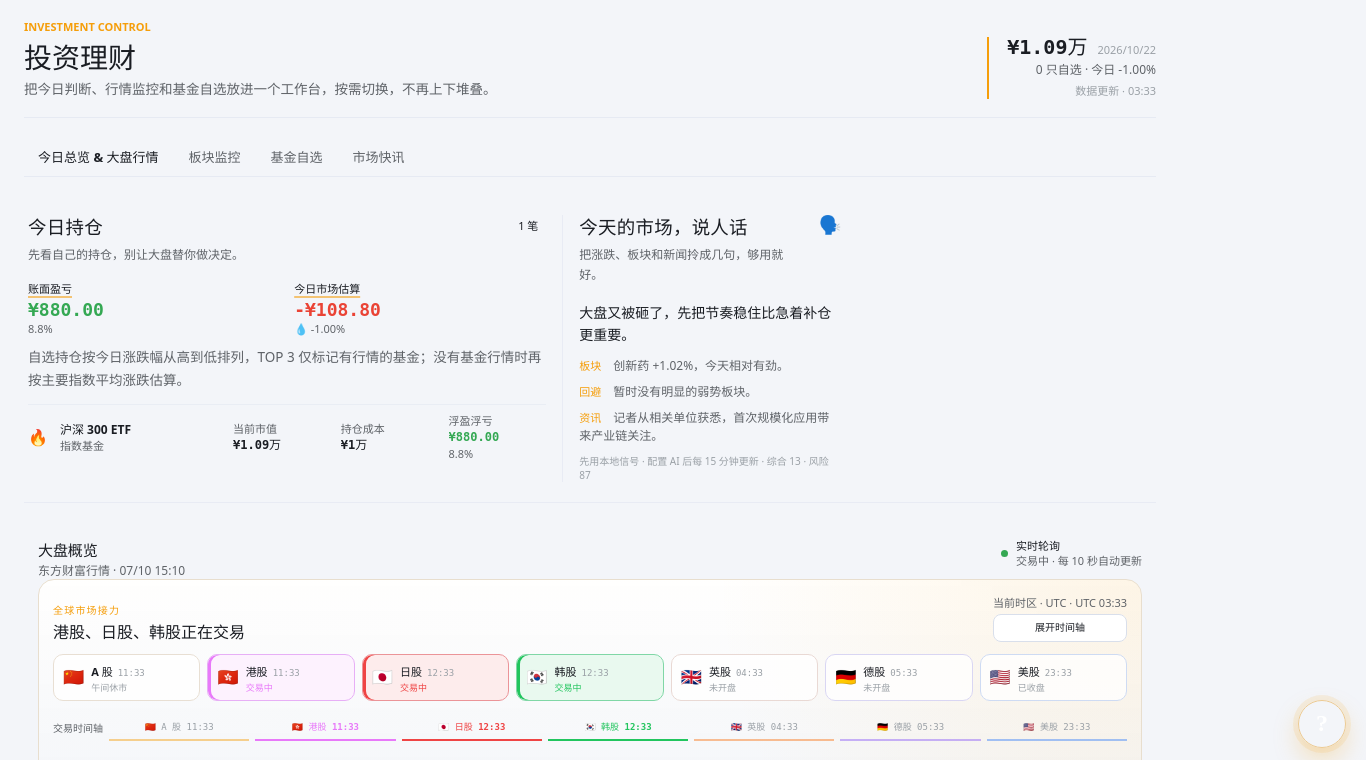
Scenario: InvestmentsPage › 可以通过东方财富基金代码添加自选基金资料
Click the button "基金自选" at (296, 158), box [256,138,336,176]
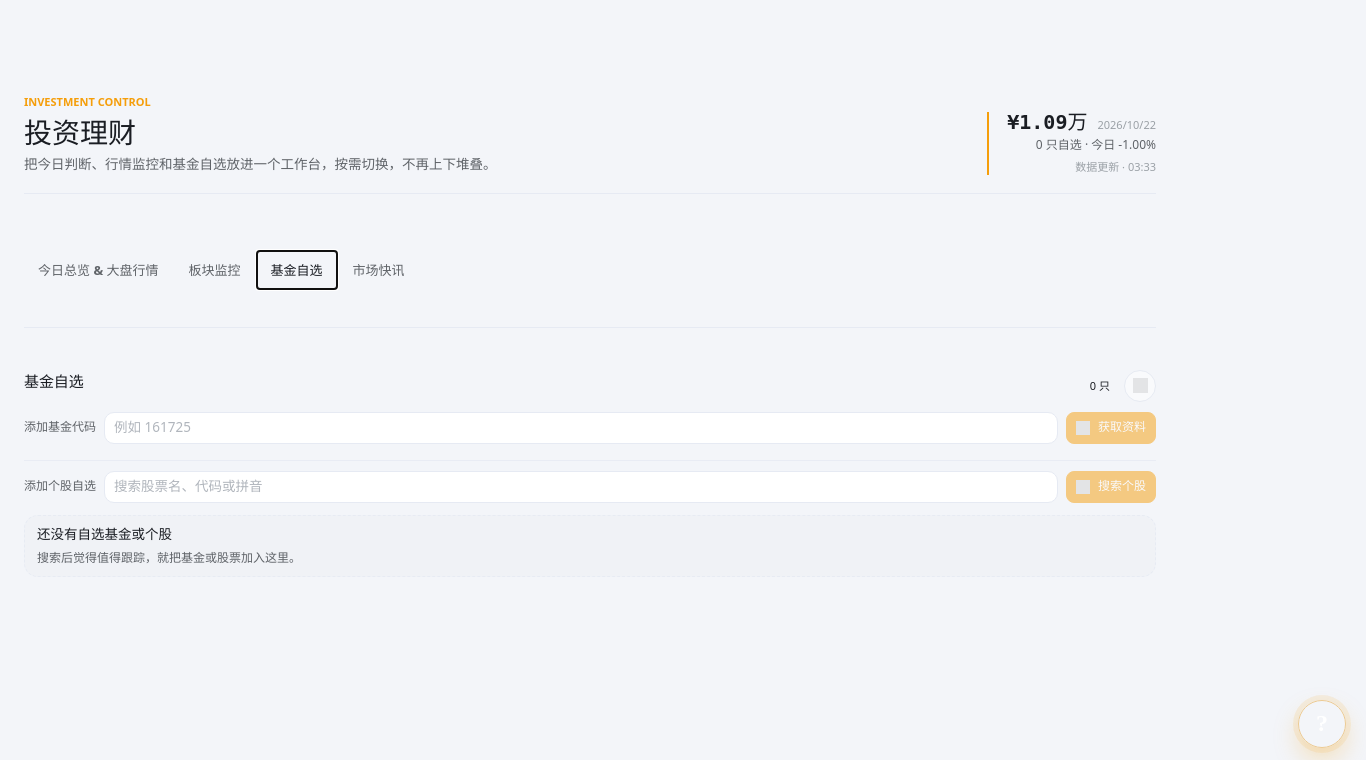
Type "161725" into the field labelled "添加基金代码" at (581, 428), box [104,412,1058,444]
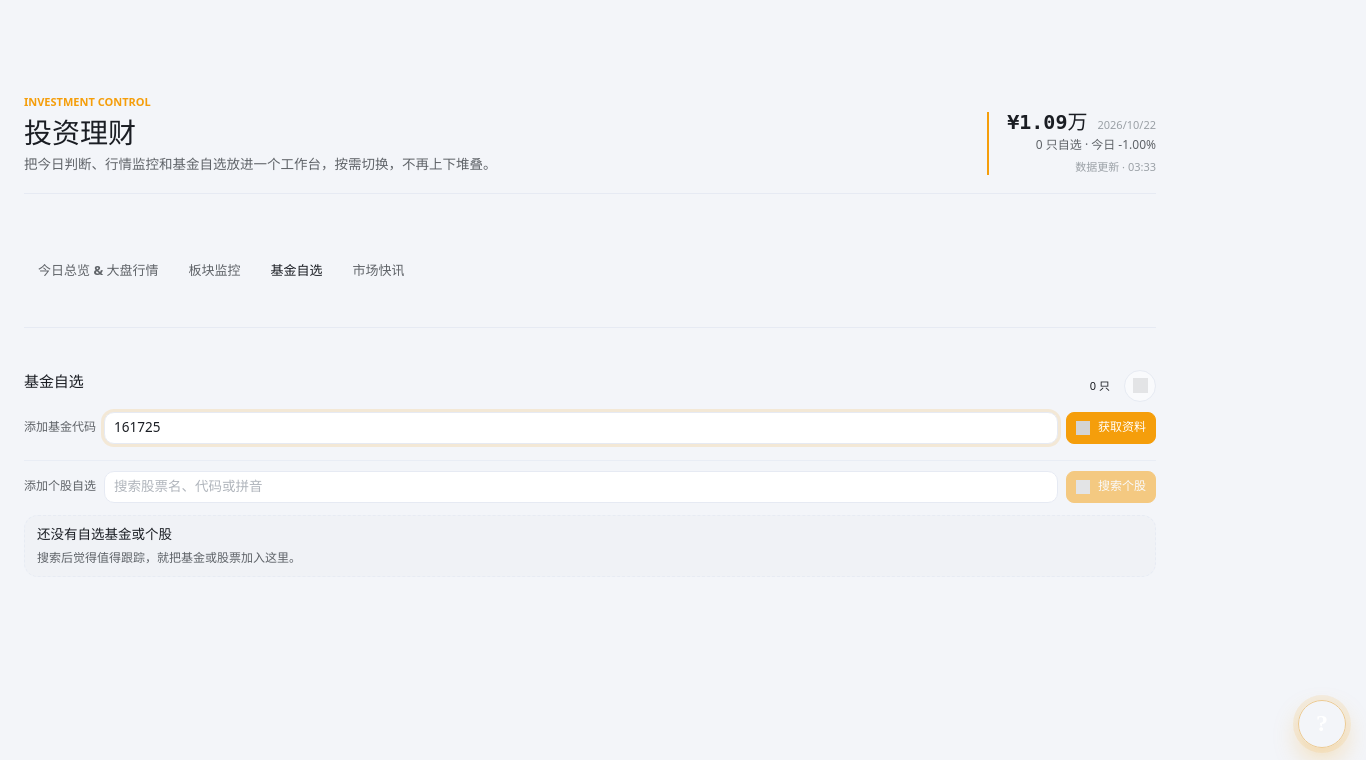
Click the button "获取资料" at (1111, 428), box [1066,412,1156,444]
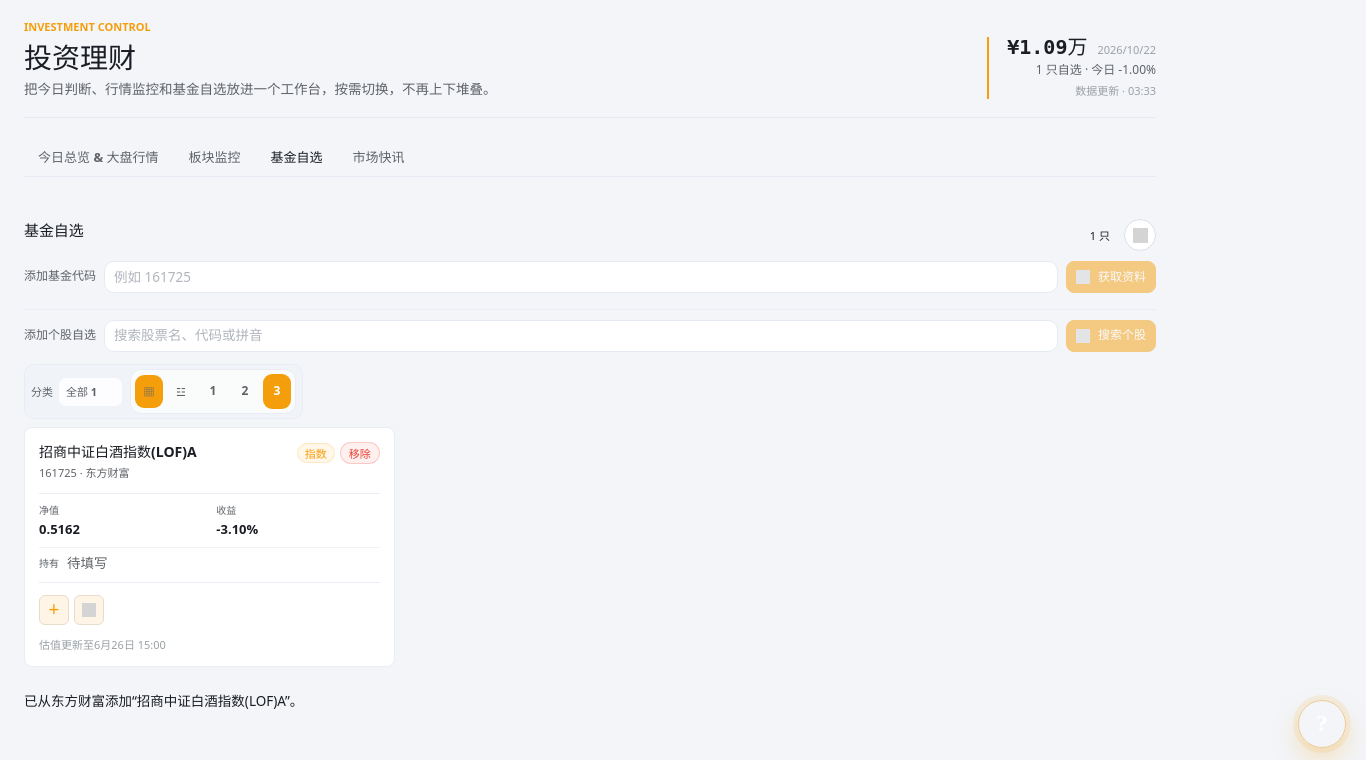
Check: the text "招商中证白酒指数(LOF)A" is shown
Click the text "招商中证白酒指数(LOF)A" at (118, 452), box [39,442,197,461]
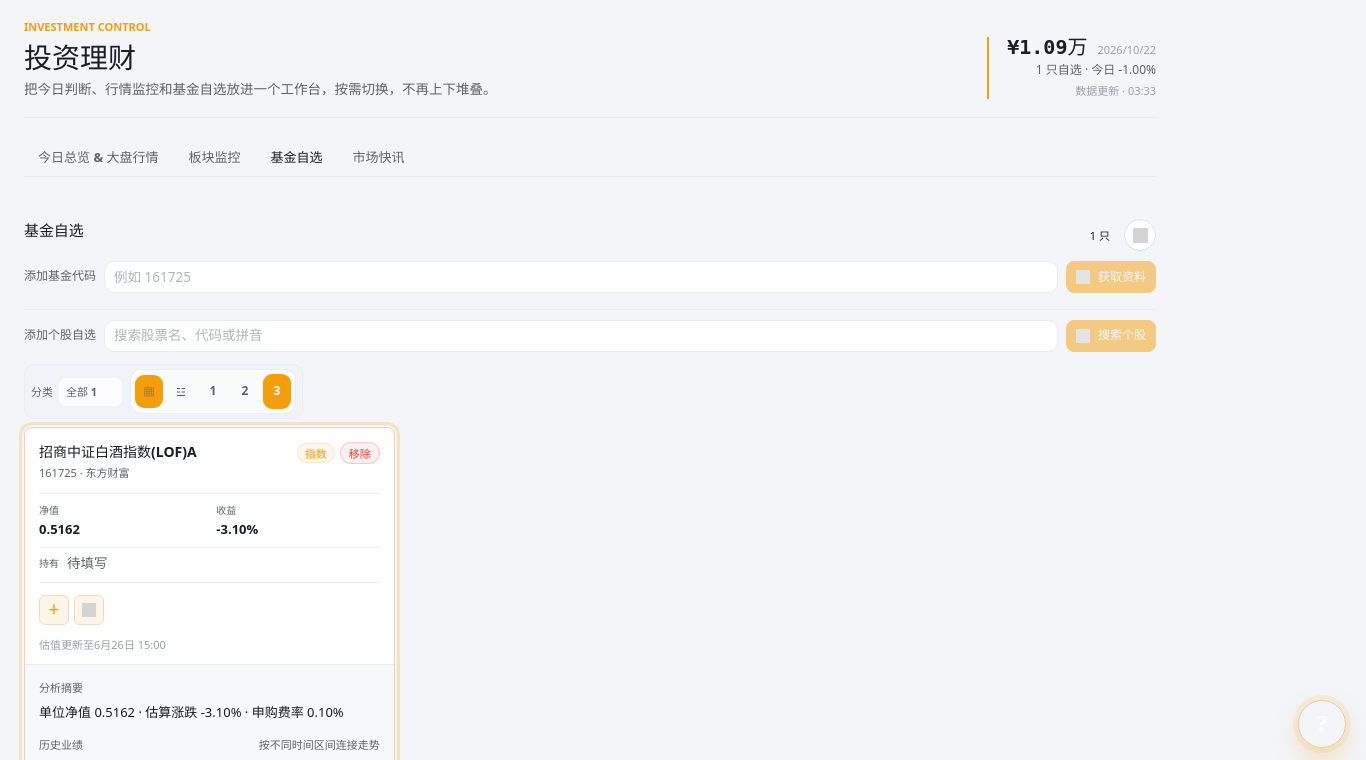
Check: the text "单位净值 0.5162 · 估算涨跌 -3.10% · 申购费率 0.10%" is shown, box [39,702,380,722]
Click the button named "添加关注" at (54, 610), box [39,594,69,624]
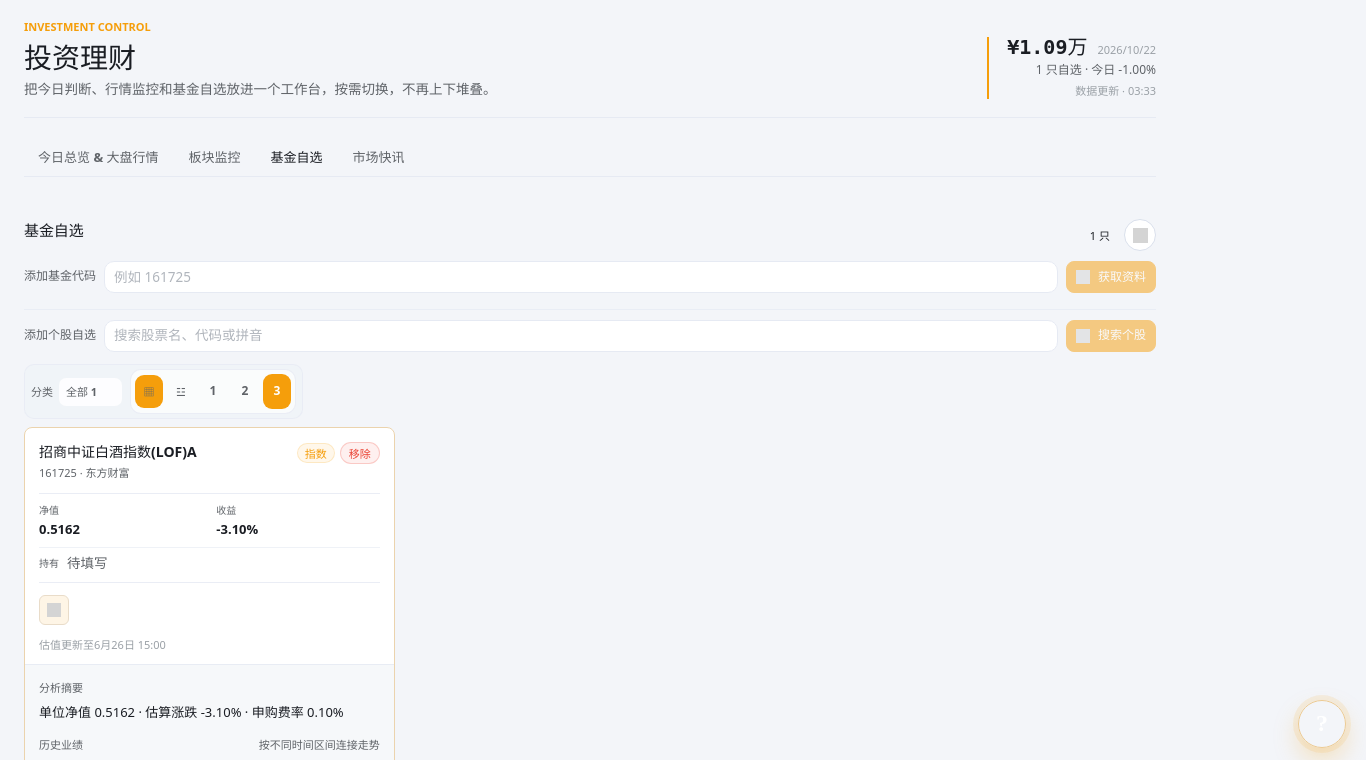
Check: the button named "刷新 招商中证白酒指数(LOF)A 基金资料" is shown, box [39,594,69,624]
Check: the text "招商中证白酒指数(LOF)A" is shown, box [39,442,197,461]
Check: the button "添加关注" is gone
